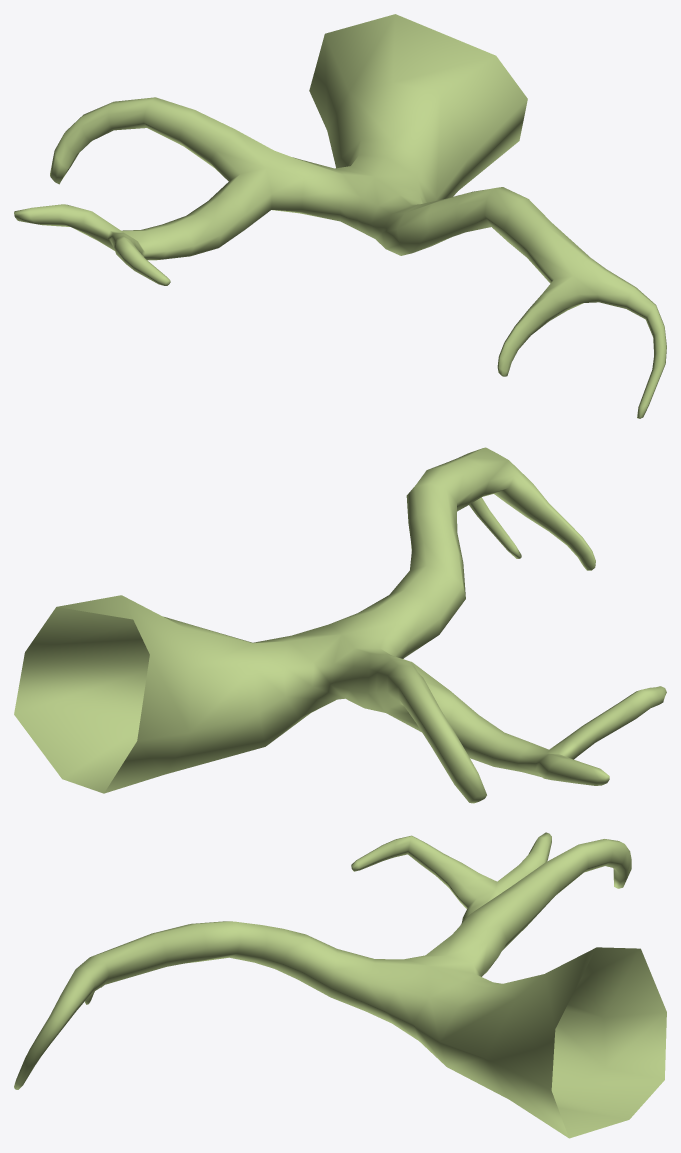
Rendered from Big tree branches_03.fbx.
3 renders of one model, top to bottom at view 1: azimuth 30°, elevation 25°; view 2: azimuth 150°, elevation 25°; view 3: azimuth 270°, elevation 25°, orthographic. The views are drawn at different scales.
Parts seen in each view (by area): view 1: polySurface592; view 2: polySurface592; view 3: polySurface592.
Part boxes in pixels (x1,y1,x2,y2): polySurface592: [14, 14, 666, 418]; polySurface592: [14, 447, 666, 803]; polySurface592: [14, 832, 666, 1138].
Size of the model in its own units: 127 by 40.41 by 142.
